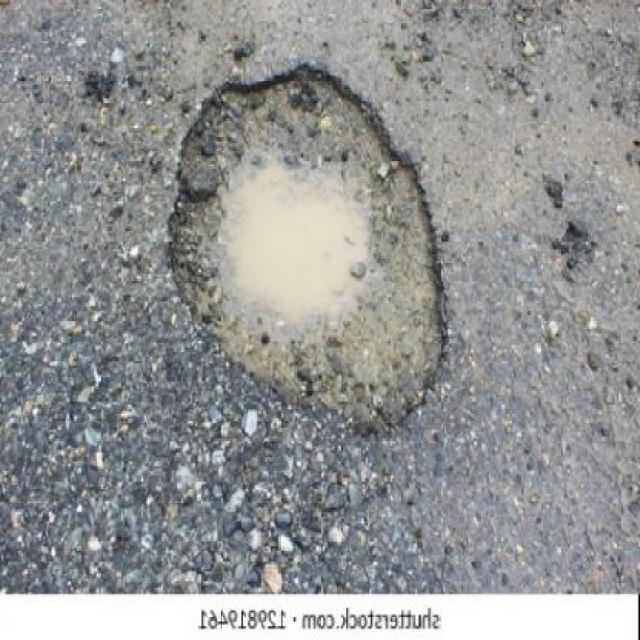pothole: (156, 64, 453, 441)
